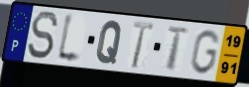G: (188, 29, 222, 77)
L: (54, 11, 83, 67)
Q: (95, 19, 124, 66)
S: (26, 10, 60, 61)
T: (130, 19, 156, 70), (165, 25, 191, 73)
